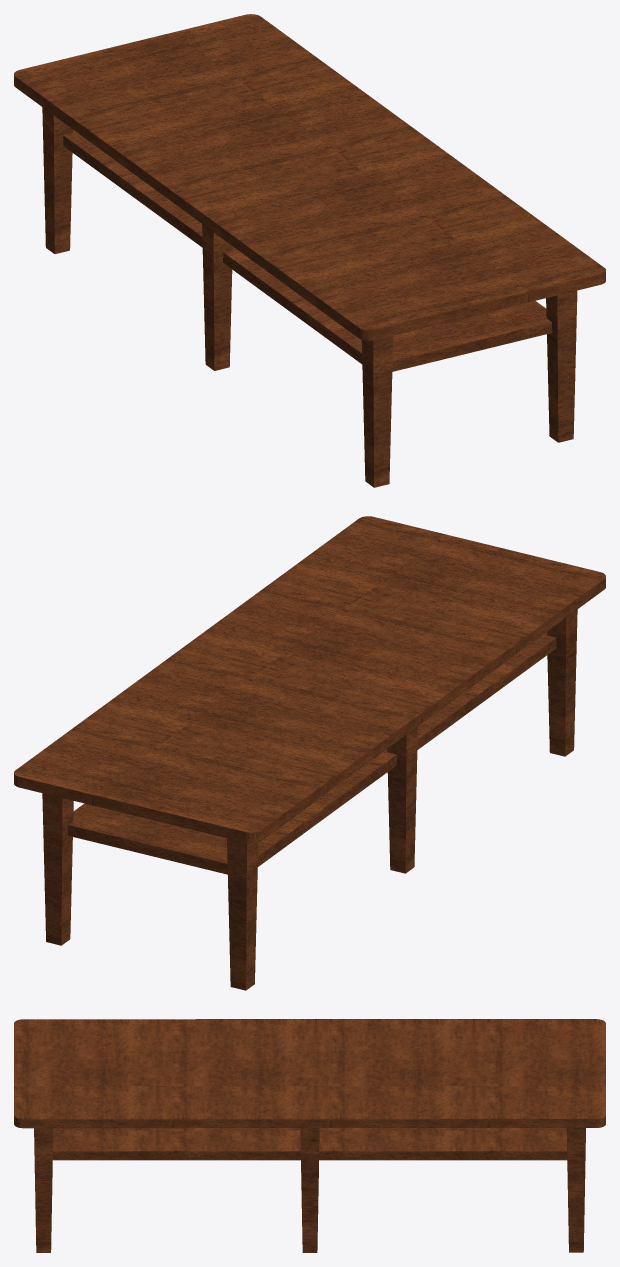
The model's file is 工作檯換木紋 同木椅.glb.
3 renders of one model, top to bottom at view 1: azimuth 30°, elevation 25°; view 2: azimuth 150°, elevation 25°; view 3: azimuth 270°, elevation 25°, orthographic. The views are drawn at different scales.
Visible parts, largest first — view 1: root; view 2: root; view 3: root.
Boxes of the visible parts, x1,y1,x2,y2 form: root: (14, 14, 605, 487); root: (14, 516, 605, 990); root: (14, 1019, 605, 1252).
Bounding box in the file's own units: 1.2 × 0.8 × 3.
1 material, 1 textured.
